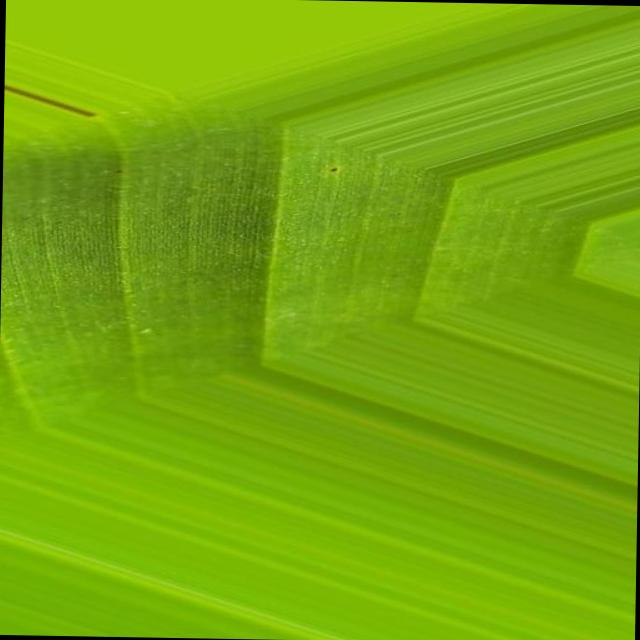Banana_Healthy: (112, 148, 569, 558)
